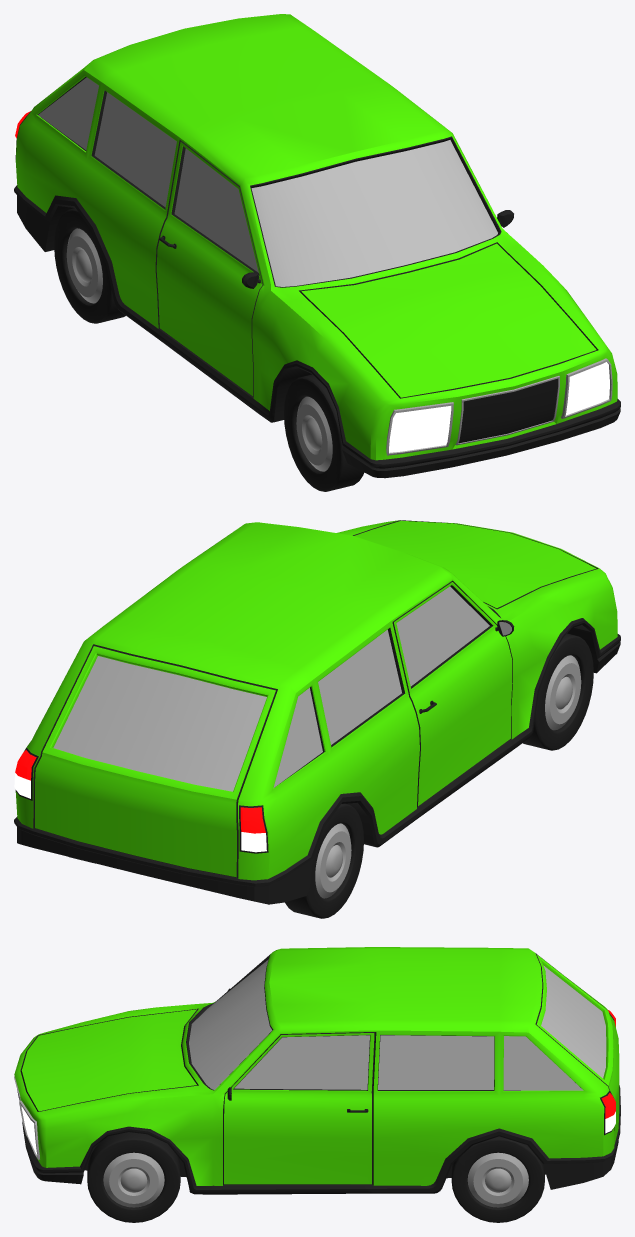
The model's file is car.glb.
3 views of the same model, one above another, from view 1: azimuth 30°, elevation 25°; view 2: azimuth 150°, elevation 25°; view 3: azimuth 270°, elevation 25° (orthographic). The views are drawn at different scales.
Parts seen in each view (by area): view 1: Car_0; view 2: Car_0; view 3: Car_0.
Boxes of the visible parts, x1,y1,x2,y2 form: Car_0: (14, 14, 620, 491); Car_0: (14, 520, 620, 918); Car_0: (14, 947, 620, 1222).
Bounding box in the file's own units: 0.9537 × 0.8254 × 2.34.
